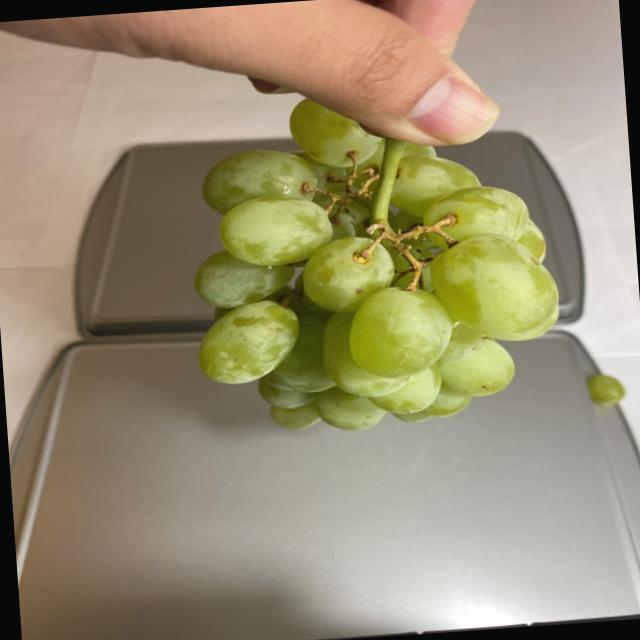grapes: (175, 78, 571, 447)
